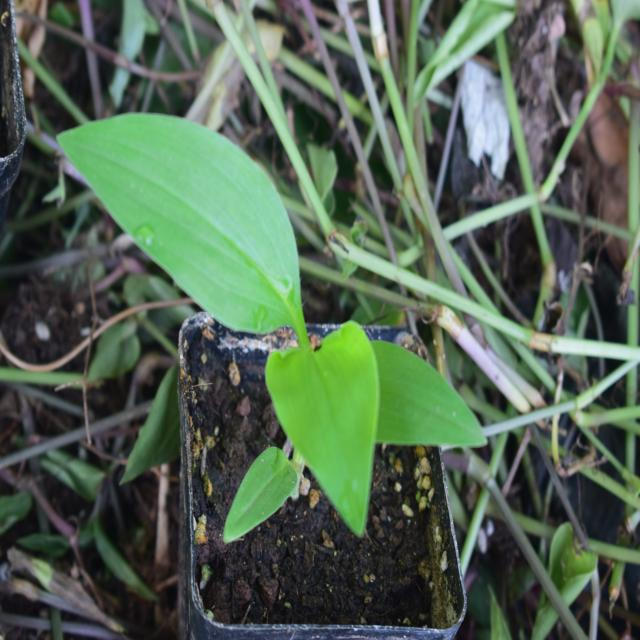Common Dayflower: (59, 95, 480, 509)
